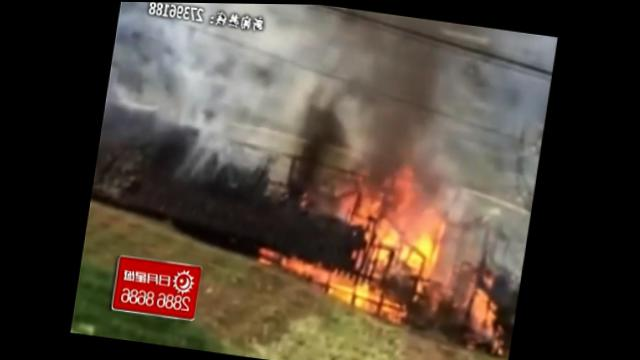fire: (374, 169, 420, 248), (405, 210, 450, 276), (326, 275, 386, 308), (470, 289, 502, 331), (283, 255, 334, 280), (349, 189, 378, 228)
